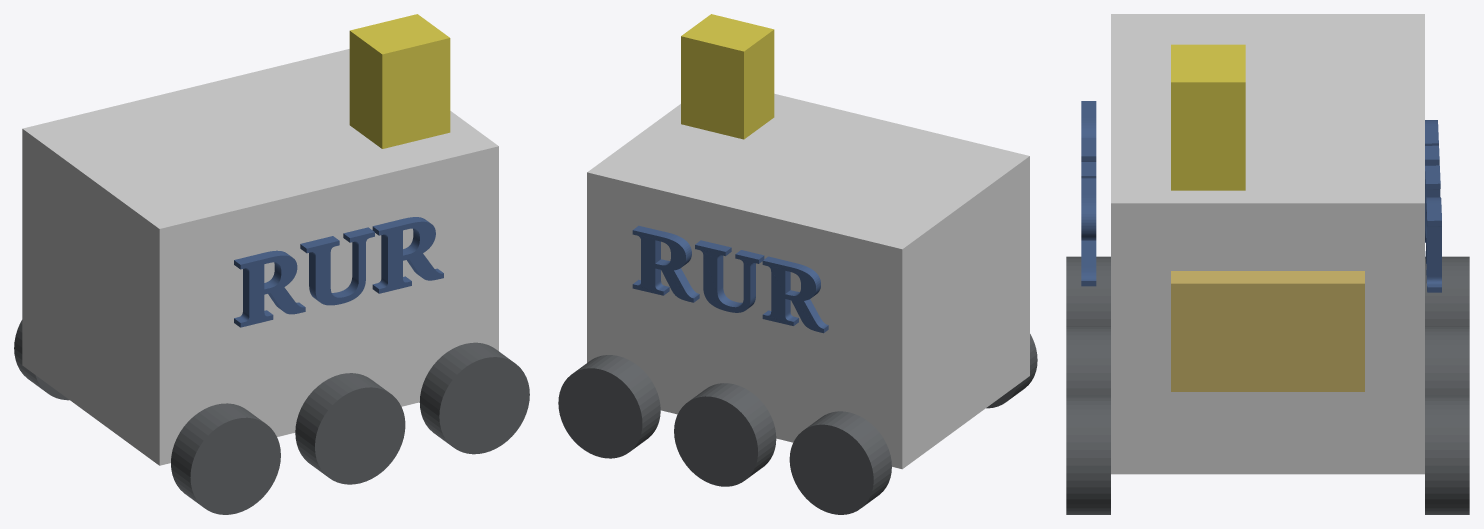
The model's file is DeliveryBotv1.glb.
The picture shows the model from 3 angles, left to right: view 1: azimuth 30°, elevation 25°; view 2: azimuth 150°, elevation 25°; view 3: azimuth 270°, elevation 25°; orthographic projection. The views are drawn at different scales.
Visible parts, largest first — view 1: Mesh_Mesh_head_geo.001_lambert2SG.001; view 2: Mesh_Mesh_head_geo.001_lambert2SG.001; view 3: Mesh_Mesh_head_geo.001_lambert2SG.001.
Part boxes in pixels (x1,y1,x2,y2): Mesh_Mesh_head_geo.001_lambert2SG.001: [14, 14, 529, 514]; Mesh_Mesh_head_geo.001_lambert2SG.001: [558, 14, 1037, 514]; Mesh_Mesh_head_geo.001_lambert2SG.001: [1066, 14, 1469, 514].
Bounding box in the file's own units: 0.032 × 0.032 × 0.027.
